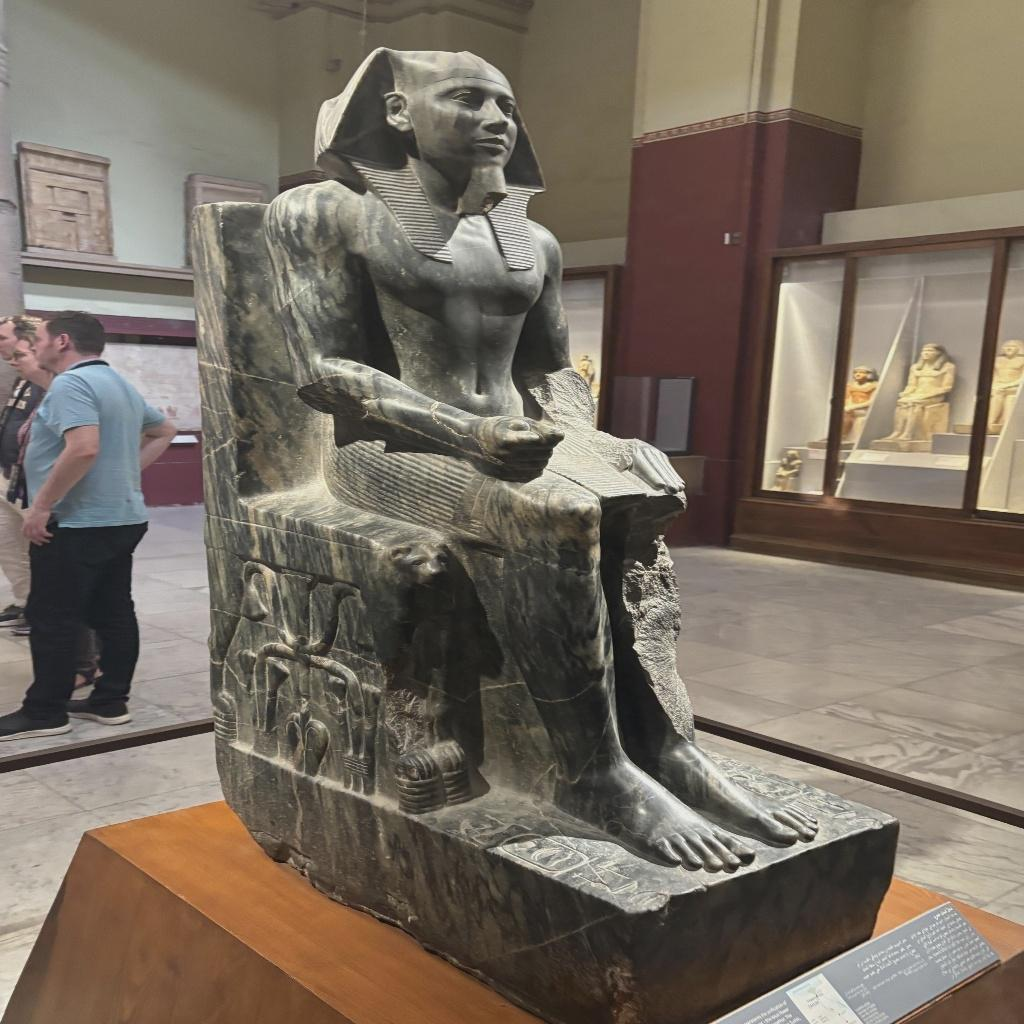Statue of Khafre: (257, 42, 829, 874)
